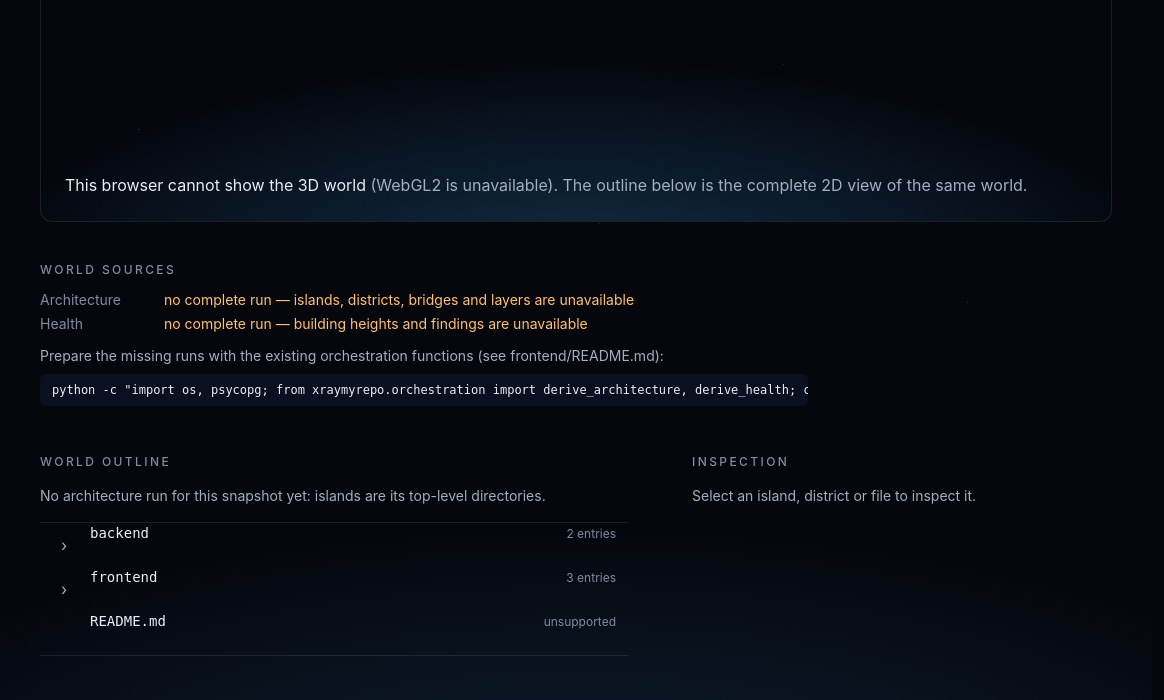
it: World › falls back to top-level directories without an architecture run, and says how to prepare one
The image size is (1164, 700).
(page scrolled)
expect the text "No architecture run for this snapshot yet" is shown: met, box [40,487,546,504]
expect the text "no complete run" is shown 2 times: met, box [164,290,634,310]; [164,314,588,334]
Click the button named "Expand backend" at (64, 545), box [42,523,86,567]
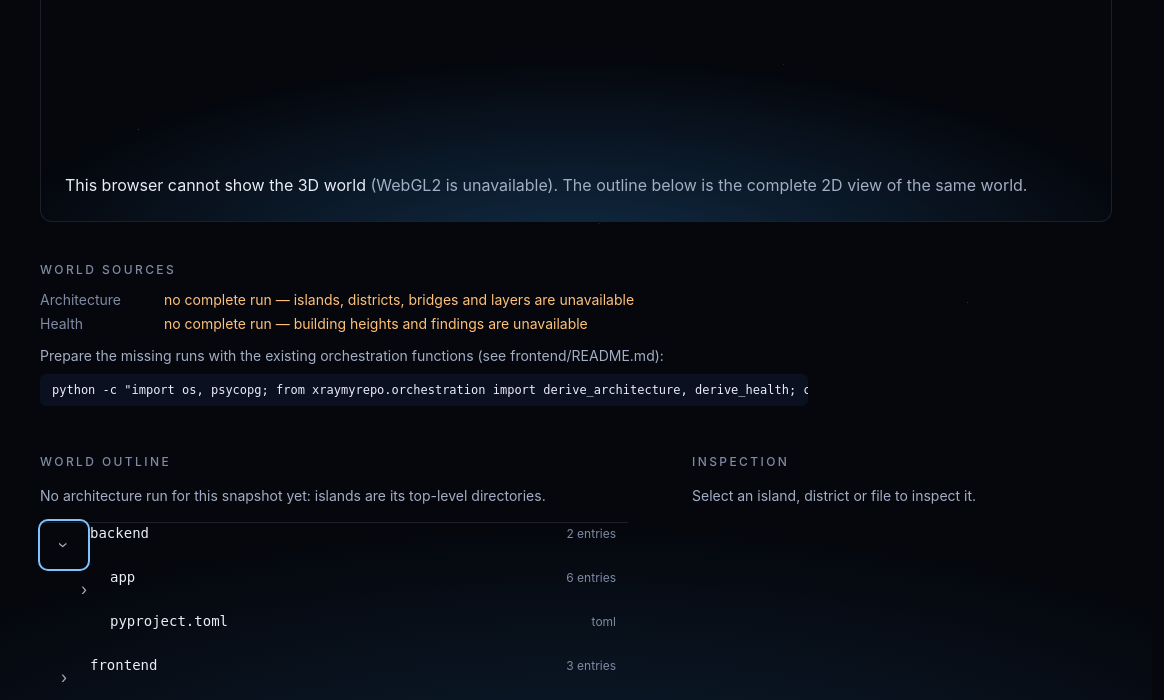
expect the button "pyproject.toml toml" is shown: met, box [110,611,628,655]
